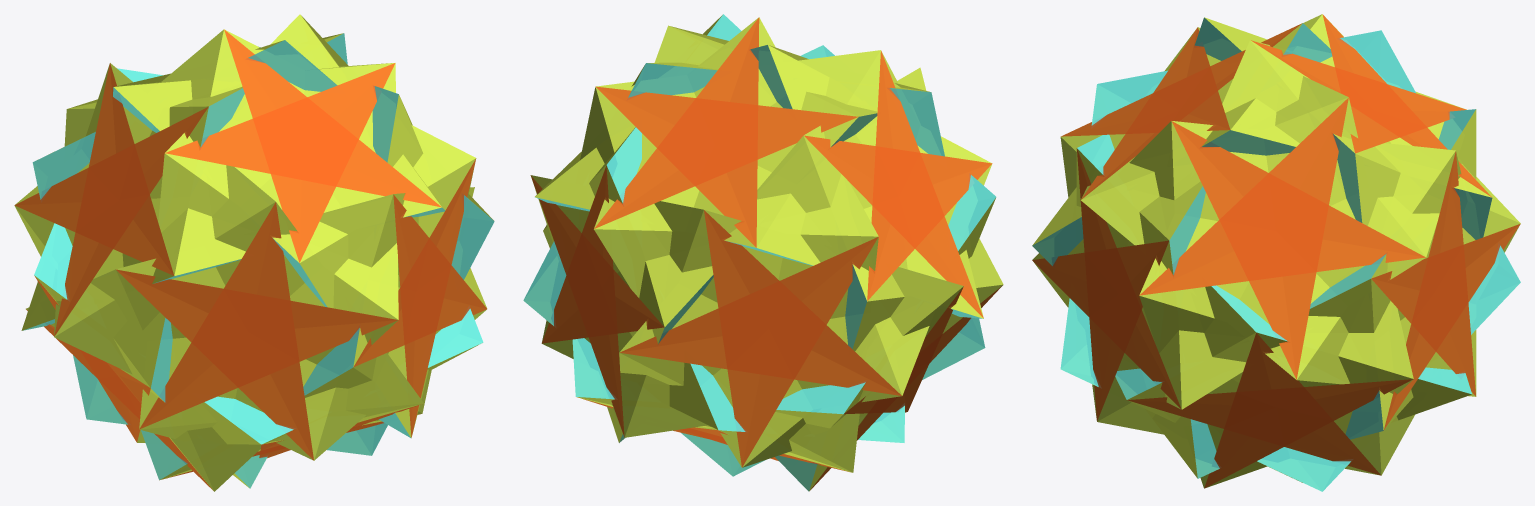
Rendered from InvertedSnubDodecadodecahedron.obj.
The picture shows the model from 3 angles, left to right: view 1: azimuth 30°, elevation 25°; view 2: azimuth 150°, elevation 25°; view 3: azimuth 270°, elevation 25°; orthographic projection.
Size of the model in its own units: 1.69 by 1.69 by 1.69.
